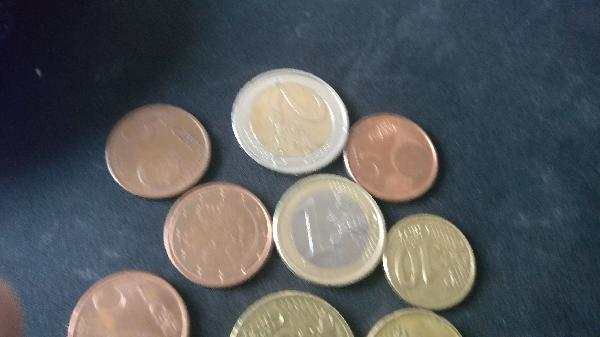Fifty Cent: (222, 290, 359, 337)
Five Cent: (160, 181, 274, 288), (100, 102, 205, 200), (344, 109, 440, 202), (66, 270, 192, 337)
One Euro: (272, 174, 384, 284)
Ten Cent: (383, 214, 479, 313)
Two Euro: (234, 68, 353, 173)
